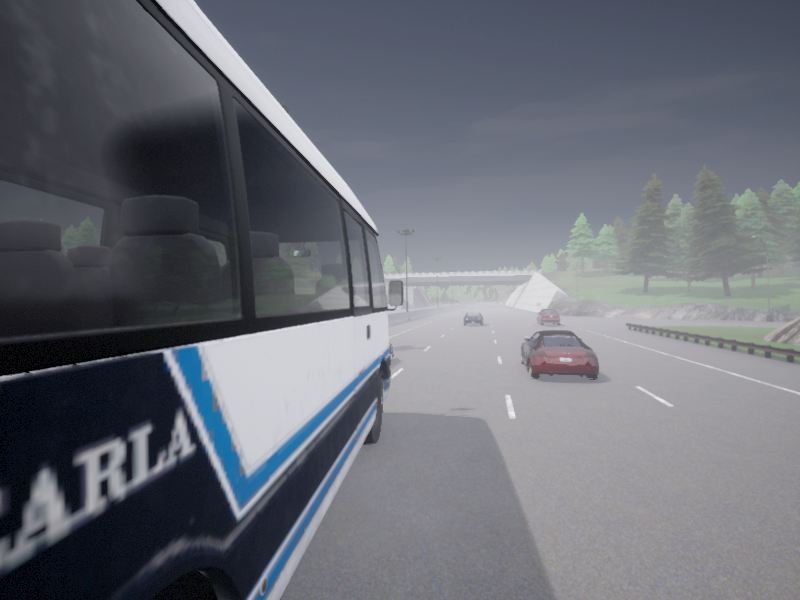vehicle: (0, 0, 402, 599), (520, 330, 598, 378), (537, 309, 559, 325), (463, 312, 482, 325), (389, 342, 392, 361)
